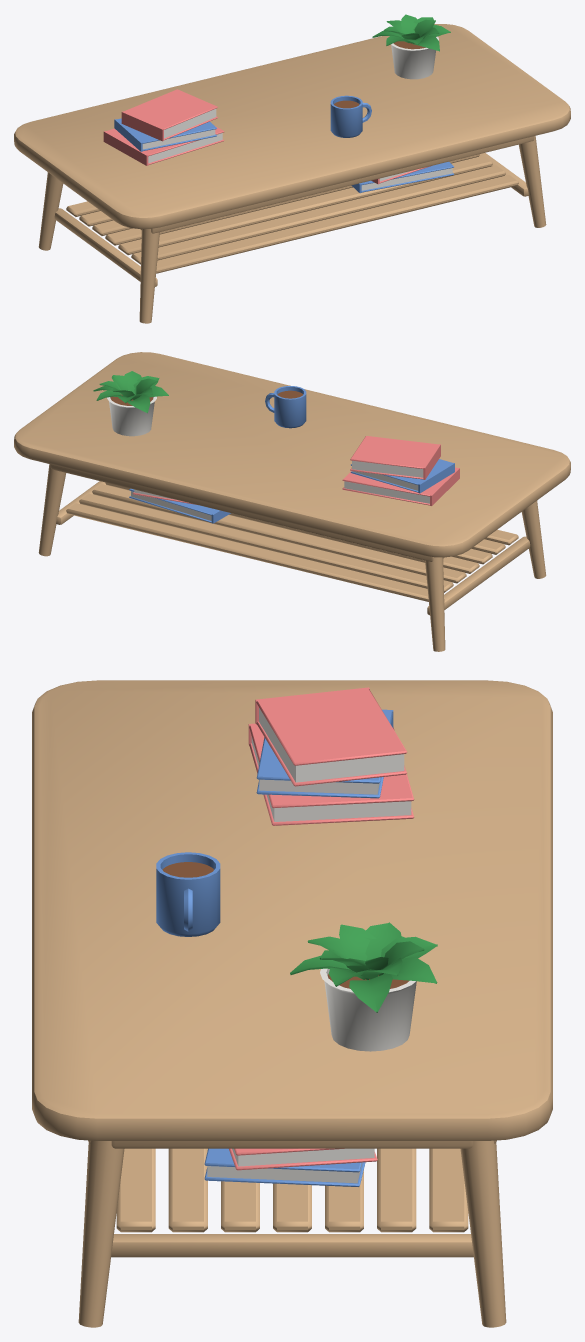
Rendered from coffee_table.glb.
The picture shows the model from 3 angles, top to bottom: view 1: azimuth 30°, elevation 25°; view 2: azimuth 150°, elevation 25°; view 3: azimuth 270°, elevation 25°; orthographic projection. The views are drawn at different scales.
Visible parts, largest first — view 1: oak, coral, white, blue, leaf; view 2: oak, coral, white, blue, leaf; view 3: oak, white, coral, blue, leaf, walnut.
Boxes of the visible parts, x1,y1,x2,y2 form: oak: (14,24,570,323); coral: (103,89,430,184); white: (142,36,452,190); blue: (114,95,454,193); leaf: (372,14,450,51); oak: (14,352,570,651); coral: (133,436,459,505); white: (107,396,429,520); blue: (129,386,454,523); leaf: (93,371,168,412); oak: (32,680,552,1327); white: (207,708,416,1183); coral: (229,687,414,1170); blue: (156,709,393,1186); leaf: (290,922,437,1012); walnut: (162,862,409,988).
Bounding box in the file's own units: 1.6 × 0.558 × 0.8.
